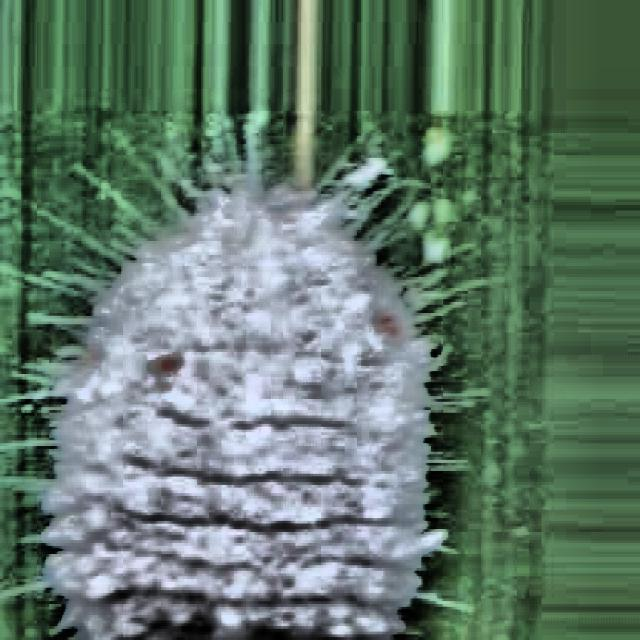Mealy-bug: (5, 134, 502, 638)
